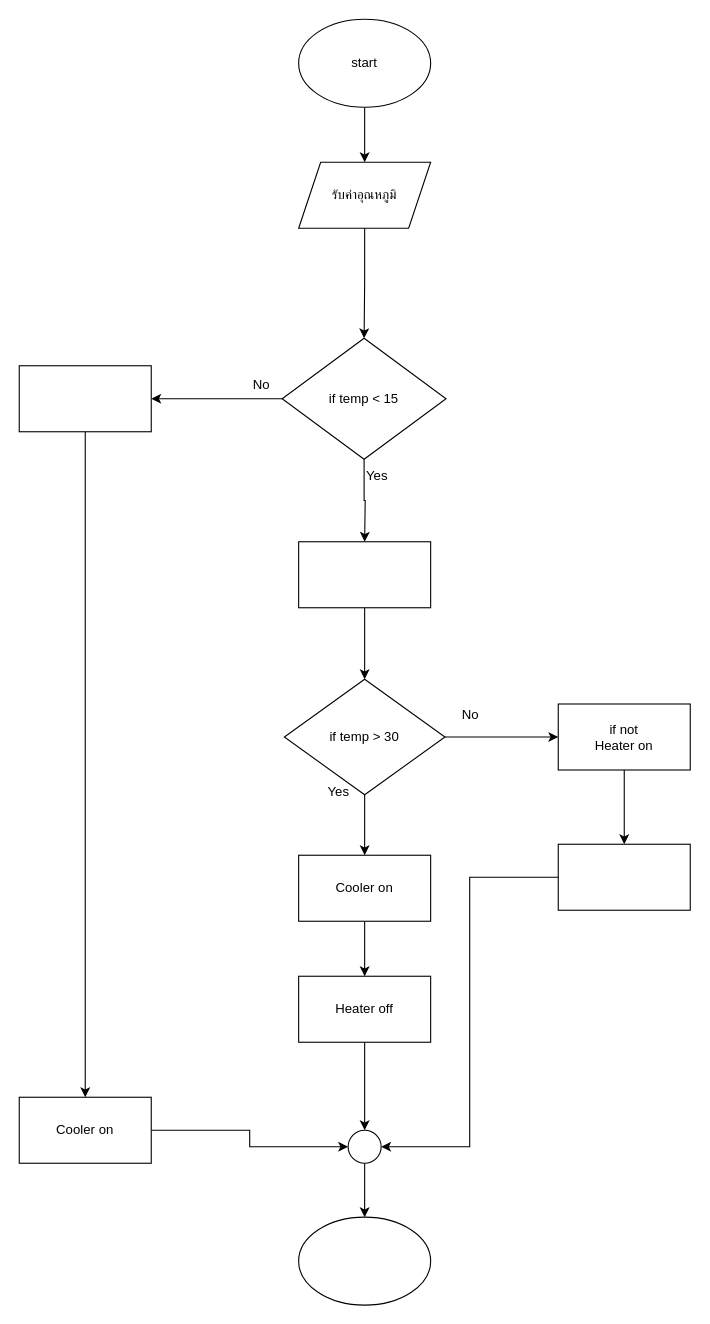
The diagram is 710 pixels wide and 1324 high, and some of its shapes have lost their labels. Here are the shapes that lost their labels. From the top down, the centre of each, then its label:
(x=84, y=398): if not Heater off
(x=364, y=574): Heater on
(x=623, y=876): Cooler off
(x=364, y=1260): Stop
